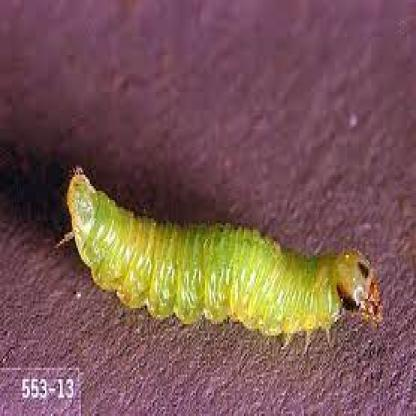sawfly: (54, 164, 386, 350)
